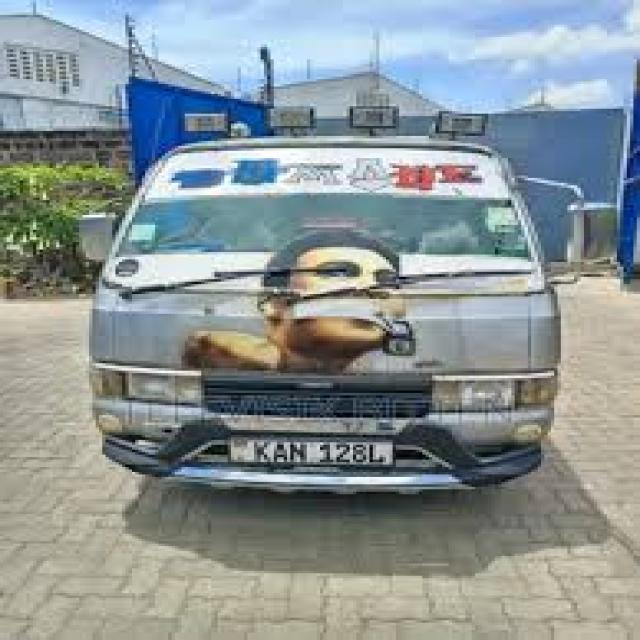matatu: (35, 87, 620, 570)
